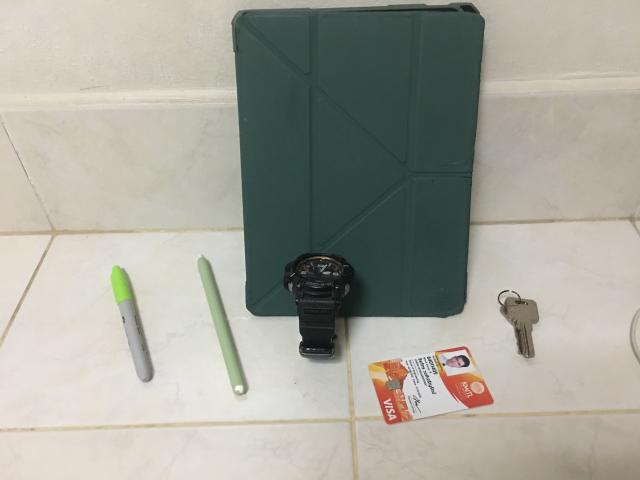Keys: (498, 290, 539, 358)
Pen: (111, 265, 151, 381)
Watch: (282, 252, 355, 358)
